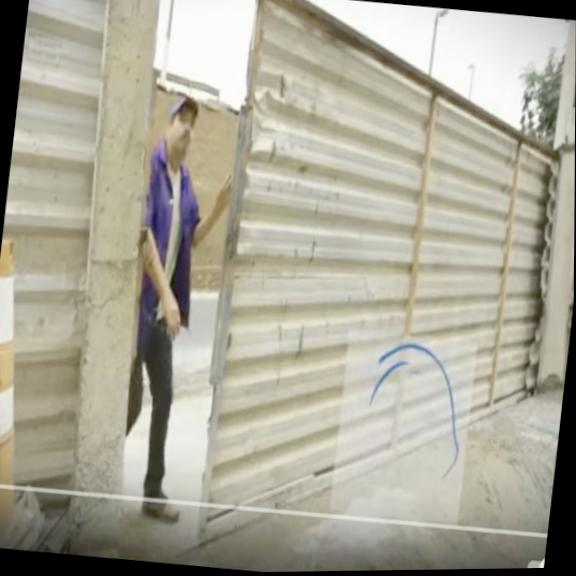no_safety_vest: (131, 140, 208, 339)
